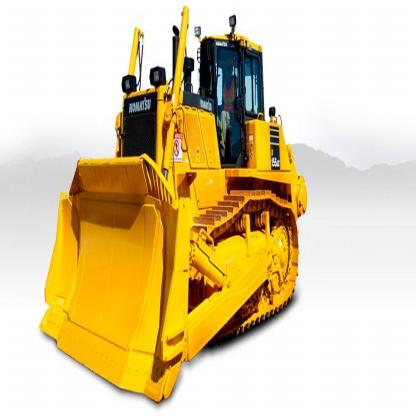bull_dozer/loader/grader: (42, 15, 313, 408)
